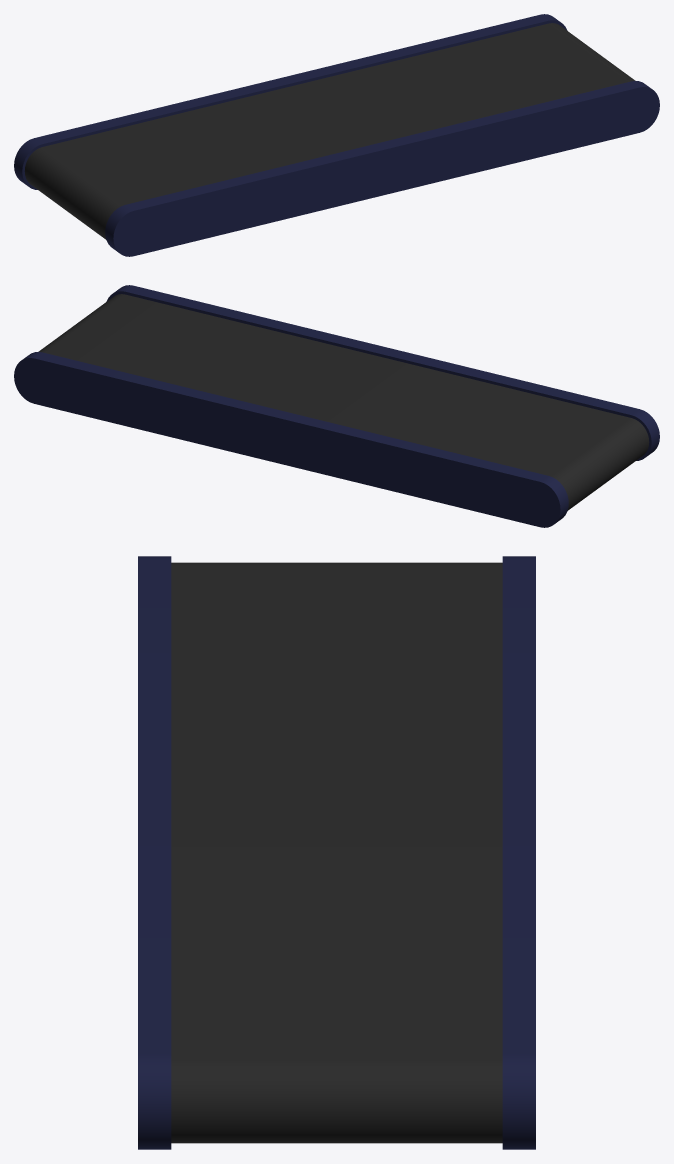
The model's file is Conveyor.fbx.
3 views of the same model, one above another, from view 1: azimuth 30°, elevation 25°; view 2: azimuth 150°, elevation 25°; view 3: azimuth 270°, elevation 25° (orthographic). The views are drawn at different scales.
Visible parts, largest first — view 1: Conveyor_Piece; view 2: Conveyor_Piece; view 3: Conveyor_Piece.
Part boxes in pixels (bbox=[...]): Conveyor_Piece: bbox=[14, 14, 659, 256]; Conveyor_Piece: bbox=[14, 285, 659, 527]; Conveyor_Piece: bbox=[138, 556, 535, 1149].
Size of the model in its own units: 381 by 30.24 by 120.
